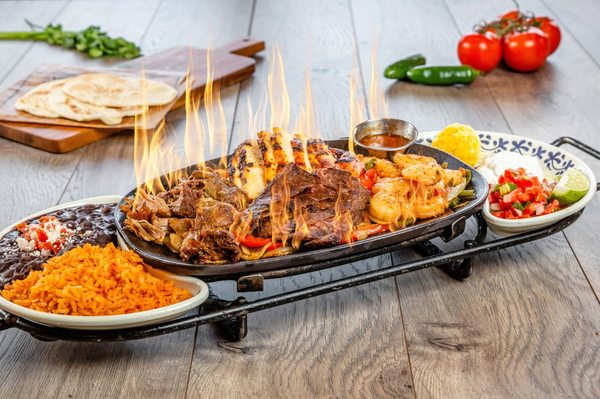sushi: (0, 194, 208, 336), (479, 140, 598, 234), (350, 117, 418, 160)
